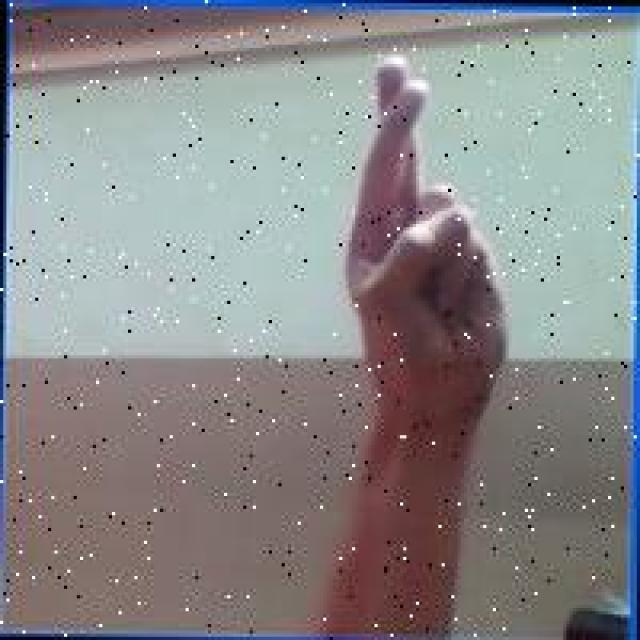R: (330, 51, 515, 416)
